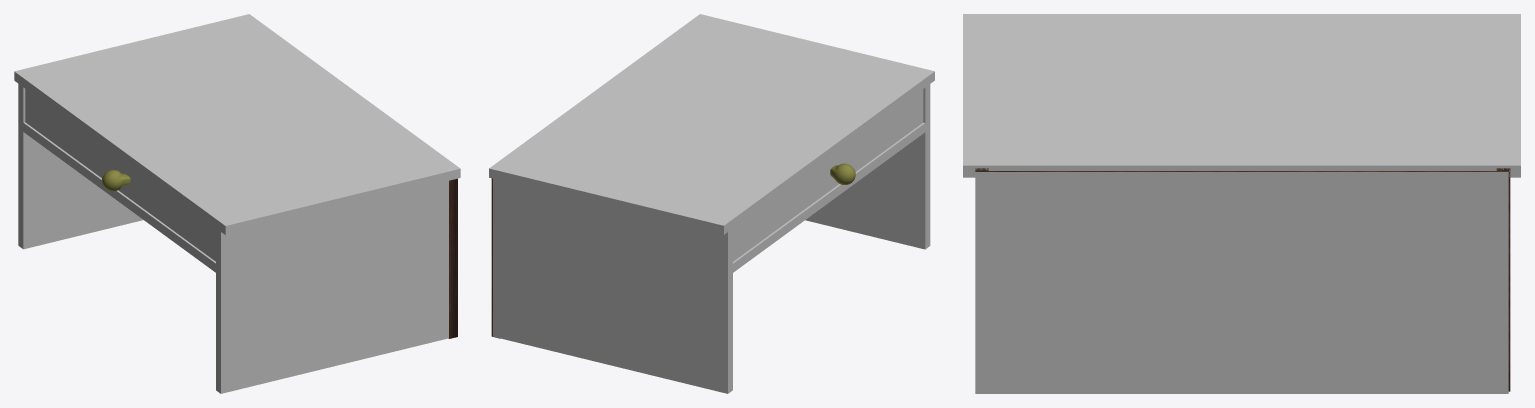
File: Office Desk .fbx
3 views of the same model, side by side, from view 1: azimuth 30°, elevation 25°; view 2: azimuth 150°, elevation 25°; view 3: azimuth 270°, elevation 25° (orthographic). The views are drawn at different scales.
Parts seen in each view (by area): view 1: pCube3, pCube1, pCube2, pCube6, pCube5, pCube4, pSphere1; view 2: pCube3, pCube2, pCube1, pCube6, pCube5, pSphere1; view 3: pCube4, pCube3, pCube2.
Boxes of the visible parts, bbox=[...] form: pCube3: bbox=[14, 14, 460, 235]; pCube1: bbox=[216, 181, 448, 393]; pCube2: bbox=[18, 77, 142, 249]; pCube6: bbox=[25, 89, 215, 261]; pCube5: bbox=[21, 122, 218, 274]; pCube4: bbox=[448, 178, 457, 338]; pSphere1: bbox=[102, 170, 130, 191]; pCube3: bbox=[489, 14, 934, 234]; pCube2: bbox=[493, 178, 732, 393]; pCube1: bbox=[805, 84, 930, 249]; pCube6: bbox=[733, 89, 923, 261]; pCube5: bbox=[731, 121, 927, 272]; pSphere1: bbox=[830, 163, 855, 184]; pCube4: bbox=[975, 171, 1508, 393]; pCube3: bbox=[963, 14, 1520, 177]; pCube2: bbox=[1496, 168, 1510, 391].
Bounding box in the file's own units: 11.97 × 7.64 × 16.99.
